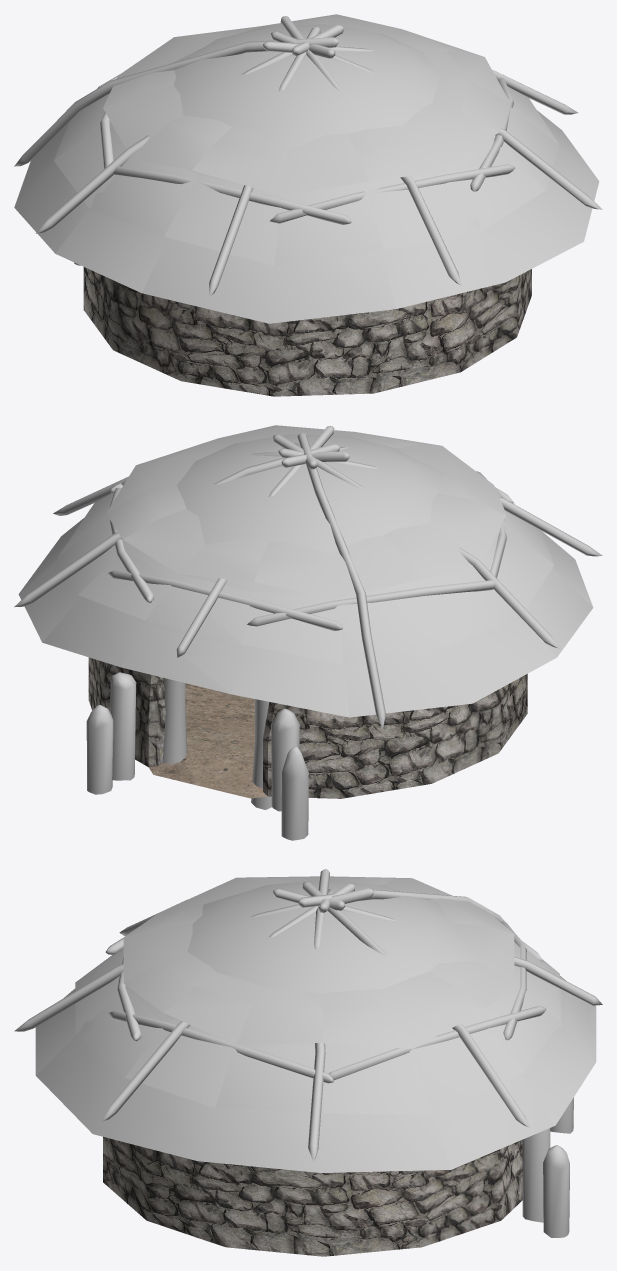
The model's file is RoundHut_4.fbx.
3 views of the same model, one above another, from view 1: azimuth 30°, elevation 25°; view 2: azimuth 150°, elevation 25°; view 3: azimuth 270°, elevation 25° (orthographic). The views are drawn at different scales.
Visible parts, largest first — view 1: Alpha, Stone, Wood; view 2: Alpha, Wood, Stone, Ground; view 3: Alpha, Stone, Wood.
Boxes of the visible parts, x1,y1,x2,y2 form: Alpha: (14,14,599,323); Stone: (83,267,531,396); Wood: (14,16,602,296); Alpha: (18,425,593,717); Wood: (14,426,602,840); Stone: (88,657,527,798); Ground: (149,683,267,798); Alpha: (35,876,596,1172); Stone: (103,1137,522,1256); Wood: (14,869,602,1237).
Size of the model in its own units: 1226 by 649 by 1167.
